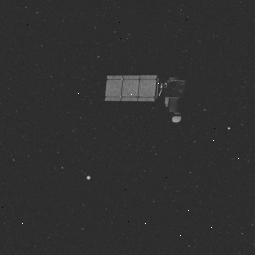earth_observation_sat_1: (98, 70, 195, 128)
